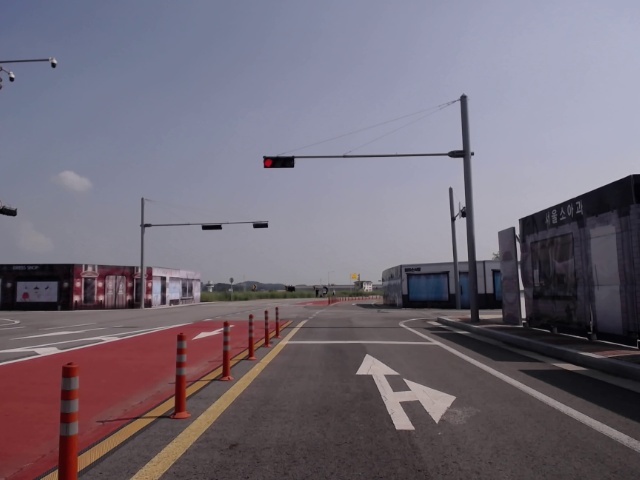red_3: (263, 158, 293, 168)
